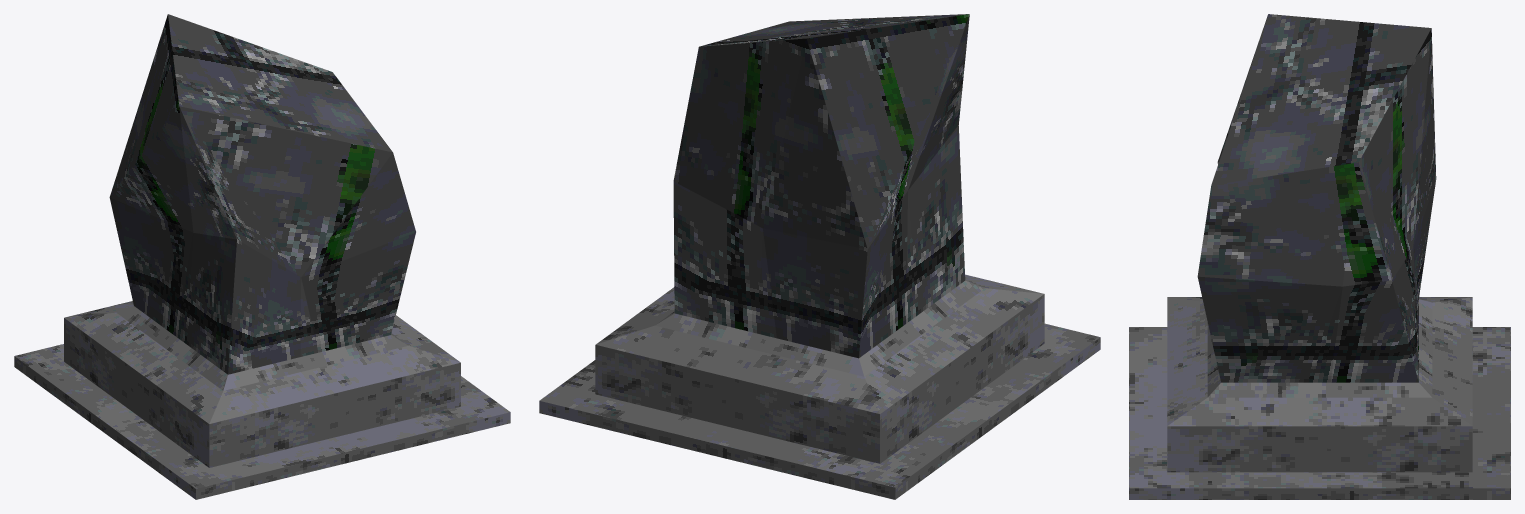
The model's file is pillar_broken_03.gltf.
3 views of the same model, side by side, from view 1: azimuth 30°, elevation 25°; view 2: azimuth 150°, elevation 25°; view 3: azimuth 270°, elevation 25° (orthographic). The views are drawn at different scales.
Parts seen in each view (by area): view 1: pillar_broken_03; view 2: pillar_broken_03; view 3: pillar_broken_03.
Part boxes in pixels (<box>): pillar_broken_03: <box>14,14,510,499</box>; pillar_broken_03: <box>539,14,1100,499</box>; pillar_broken_03: <box>1129,14,1510,499</box>.
Bounding box in the file's own units: 1.5 × 1.6 × 1.5.
Materials: 1 (1 with a texture image).
